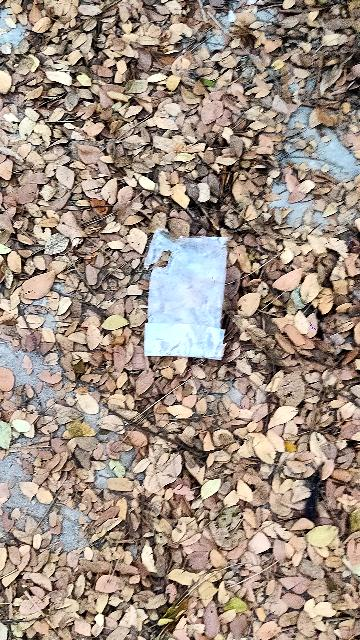polythene: (142, 228, 235, 364)
